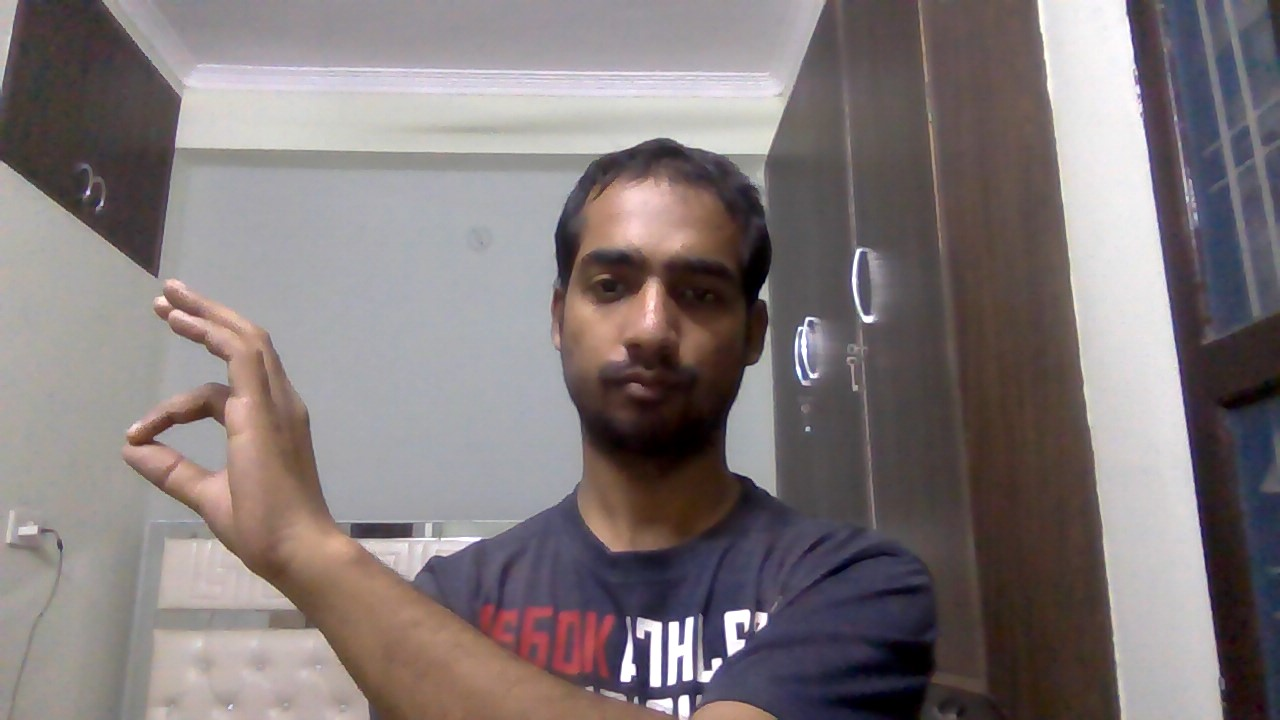Copy: (113, 272, 335, 585)
